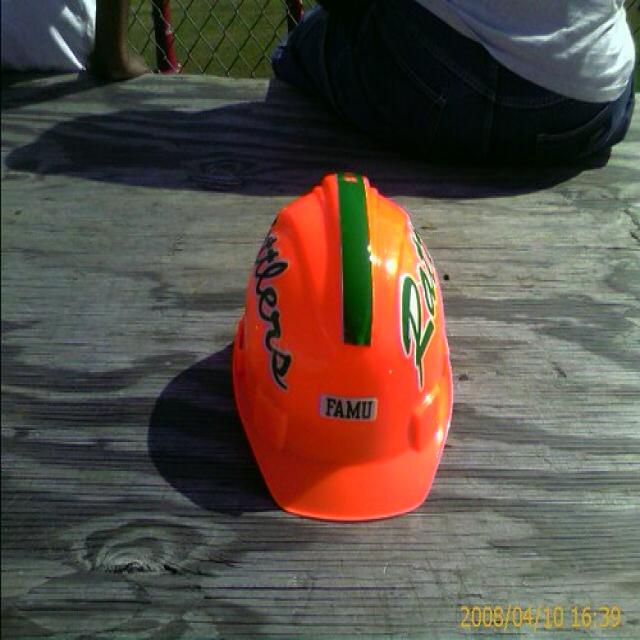Safety-Helmet: (219, 181, 466, 524)
